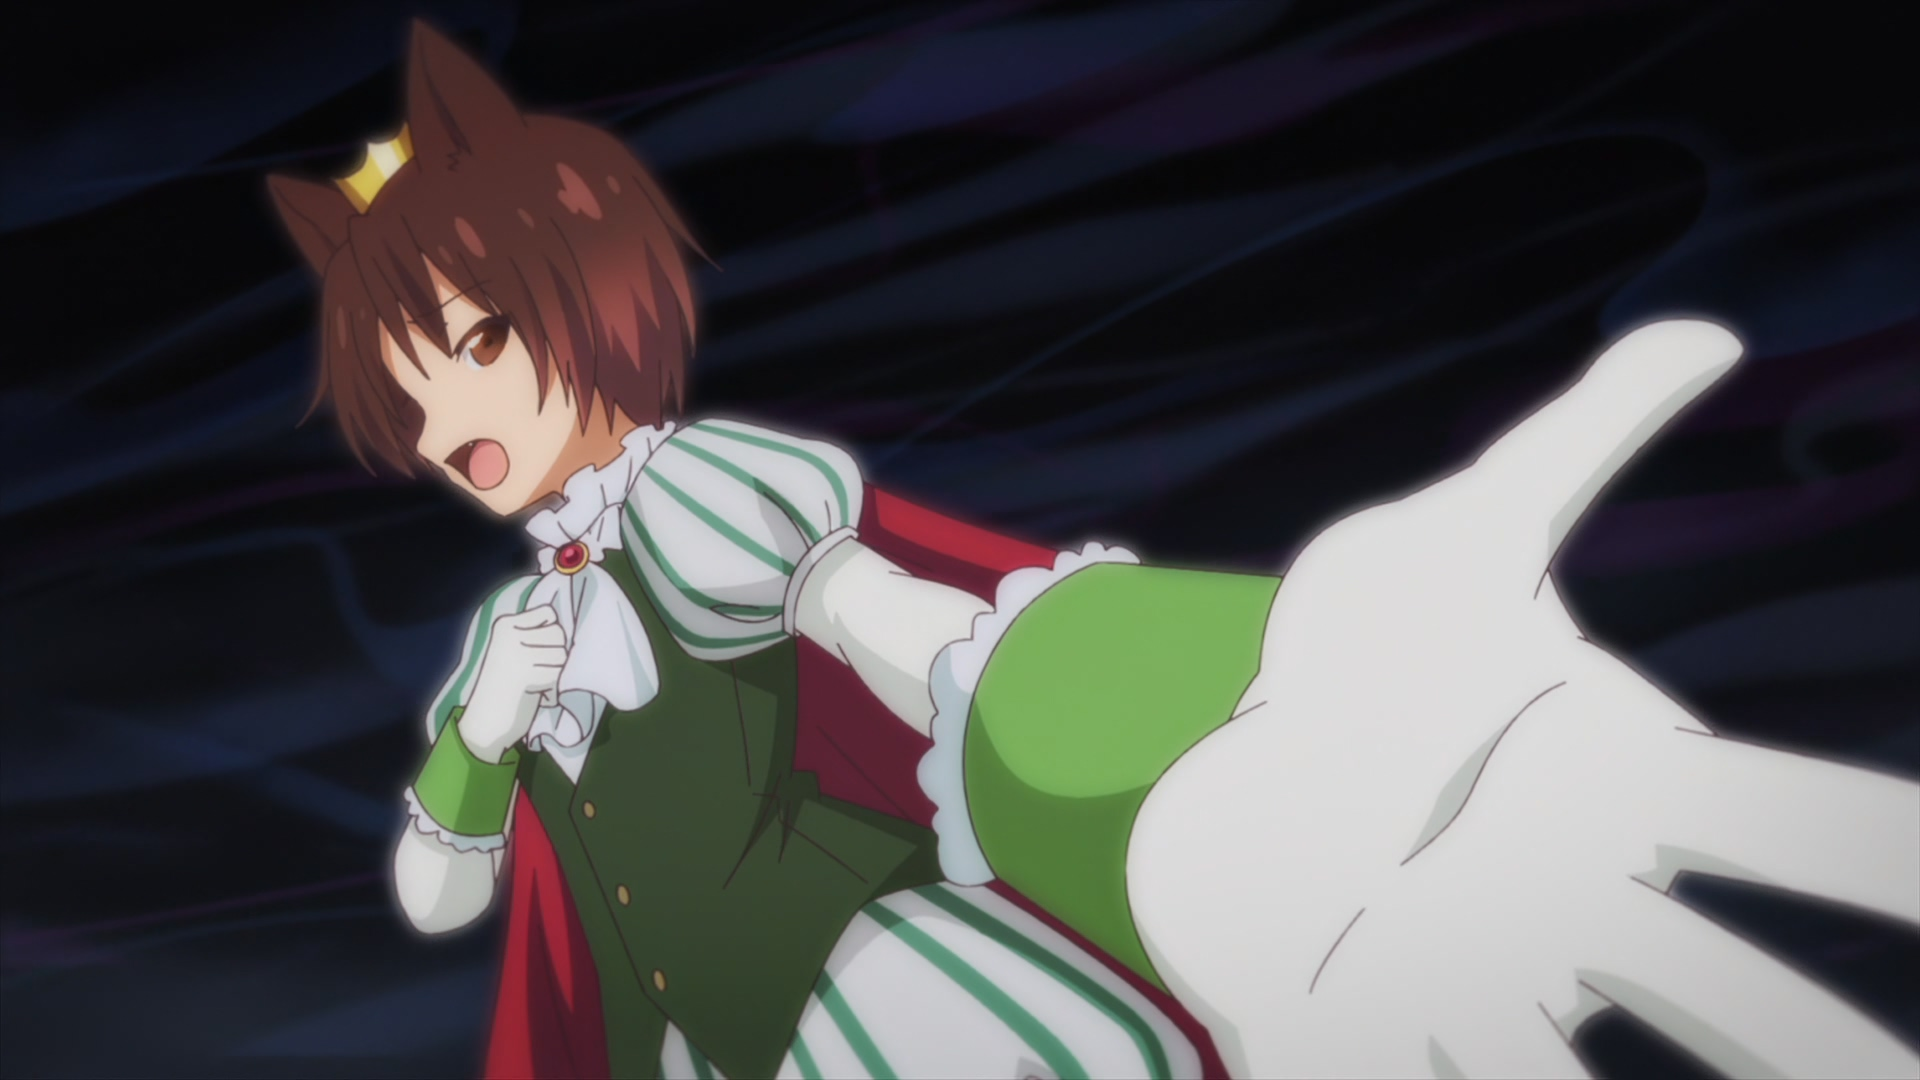枣: (261, 25, 1920, 1080)
